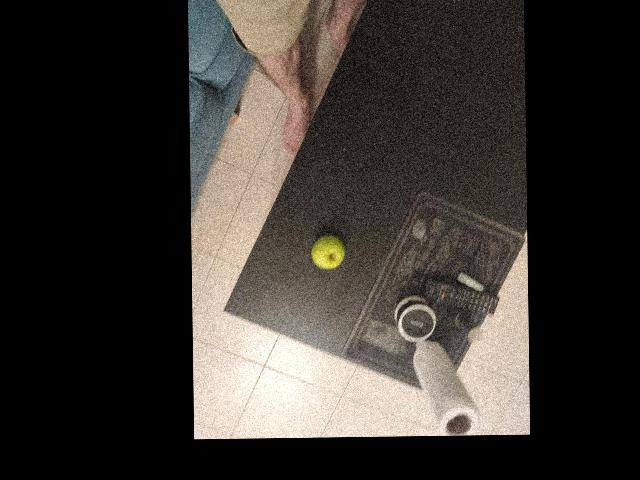apple: (316, 282, 362, 321)
